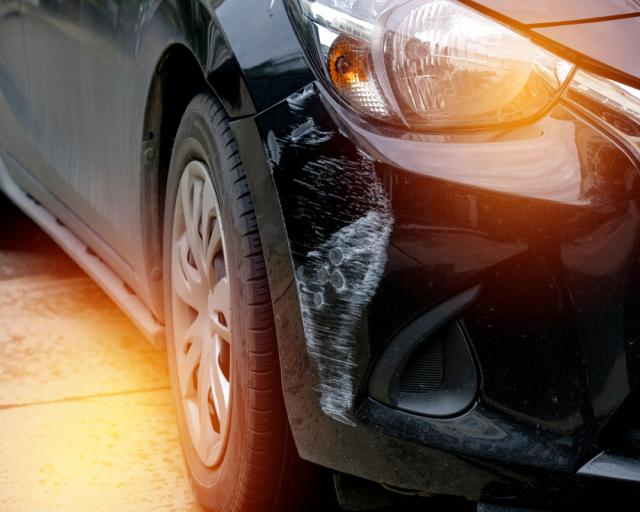scratch: (255, 81, 396, 429)
